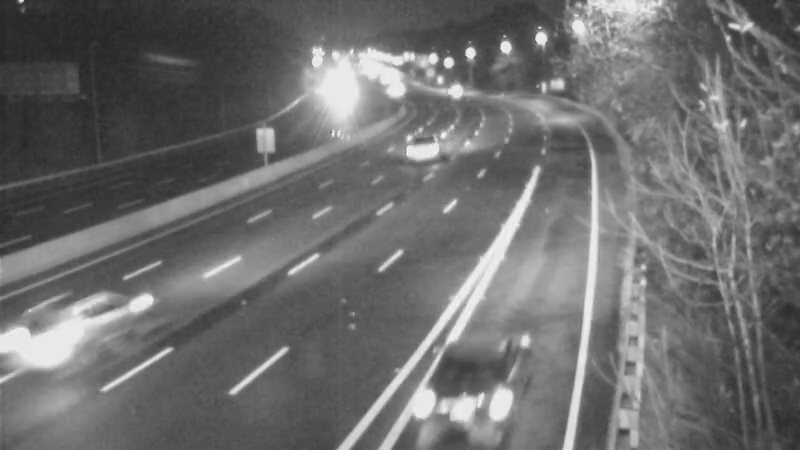vehicle: (19, 275, 129, 385), (414, 347, 524, 450), (424, 70, 474, 120), (400, 113, 450, 163)
